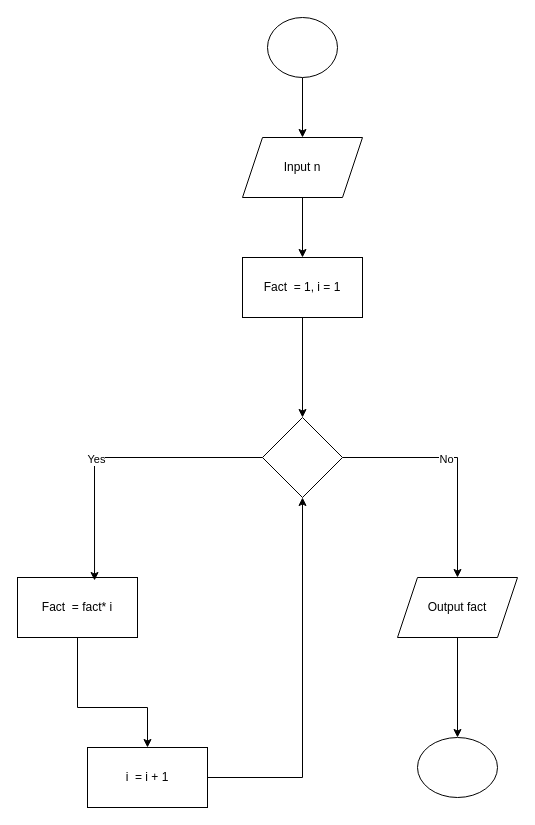
The diagram is 535 pixels wide and 825 high, and some of its shapes have lost their labels. The centre of each missing label's shape, as x and y in pixels:
"End" belongs at point (457, 767).
"i<0 n?" belongs at point (302, 457).
"Start" belongs at point (302, 47).
